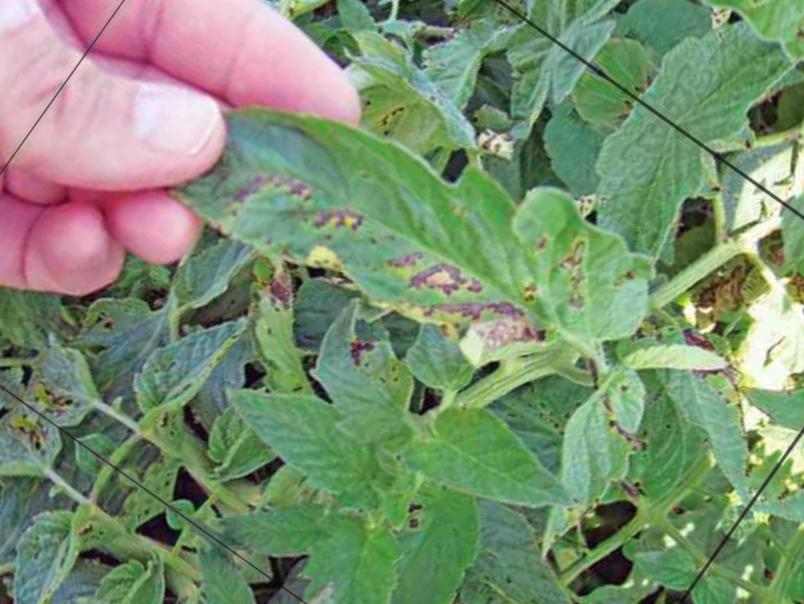Tomato Early blight leaf: (179, 7, 698, 471)
Tomato leaf: (392, 382, 600, 566), (217, 362, 386, 507), (217, 465, 351, 594)
